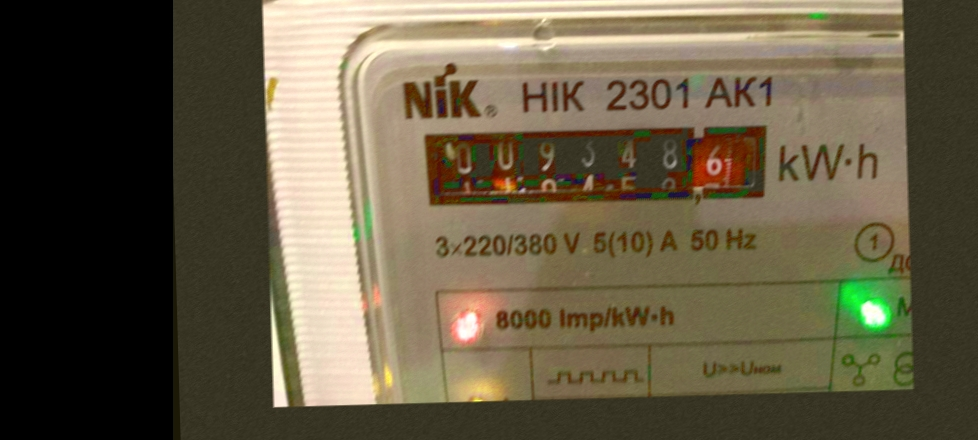0: (497, 139, 519, 176), (456, 142, 477, 178)
3: (579, 138, 601, 171)
4: (619, 137, 641, 174)
6: (706, 144, 729, 179)
8: (662, 138, 682, 172)
9: (540, 139, 558, 174)
screen: (403, 112, 791, 224)
